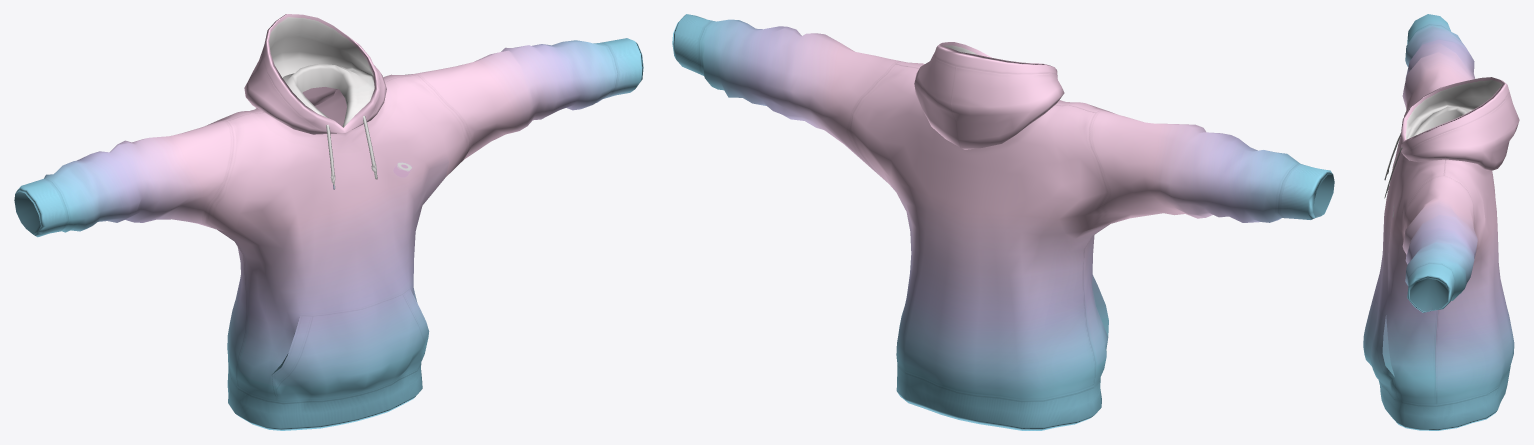
File: hoodie_tpose.glb
3 views of the same model, side by side, from view 1: azimuth 30°, elevation 25°; view 2: azimuth 150°, elevation 25°; view 3: azimuth 270°, elevation 25° (orthographic). The views are drawn at different scales.
Visible parts, largest first — view 1: hoodie_tpose; view 2: hoodie_tpose; view 3: hoodie_tpose.
Part boxes in pixels (left/top/right/bottom): hoodie_tpose: left=14, top=14, right=643, bottom=430; hoodie_tpose: left=672, top=14, right=1334, bottom=430; hoodie_tpose: left=1363, top=14, right=1519, bottom=430.
Bounding box in the file's own units: 1.56 × 0.867 × 0.3915.
Materials: 1 (1 with a texture image).
